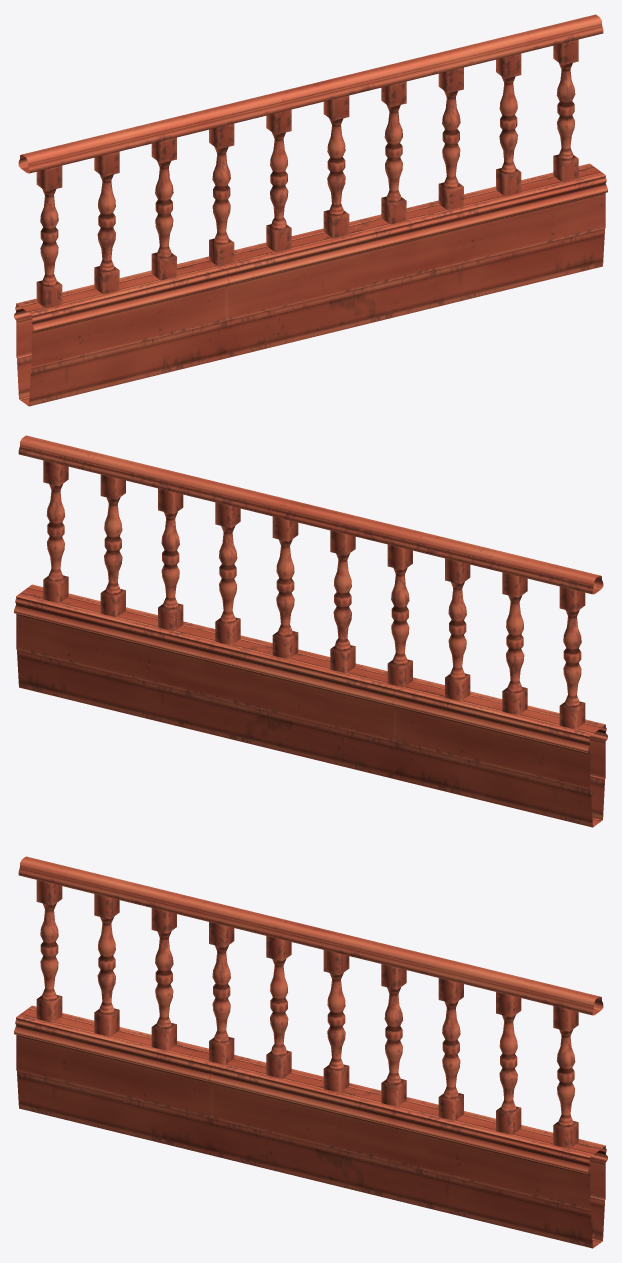
Rendered from MSH_Railing_01.FBX.
3 views of the same model, one above another, from view 1: azimuth 30°, elevation 25°; view 2: azimuth 150°, elevation 25°; view 3: azimuth 330°, elevation 25° (orthographic).
Parts seen in each view (by area): view 1: MSH_Railing_01; view 2: MSH_Railing_01; view 3: MSH_Railing_01.
Boxes of the visible parts, x1,y1,x2,y2 form: MSH_Railing_01: (14,14,607,406); MSH_Railing_01: (14,435,607,827); MSH_Railing_01: (14,856,607,1248).
Size of what is drawn, in the model's own units: 360 by 21.71 by 148.
